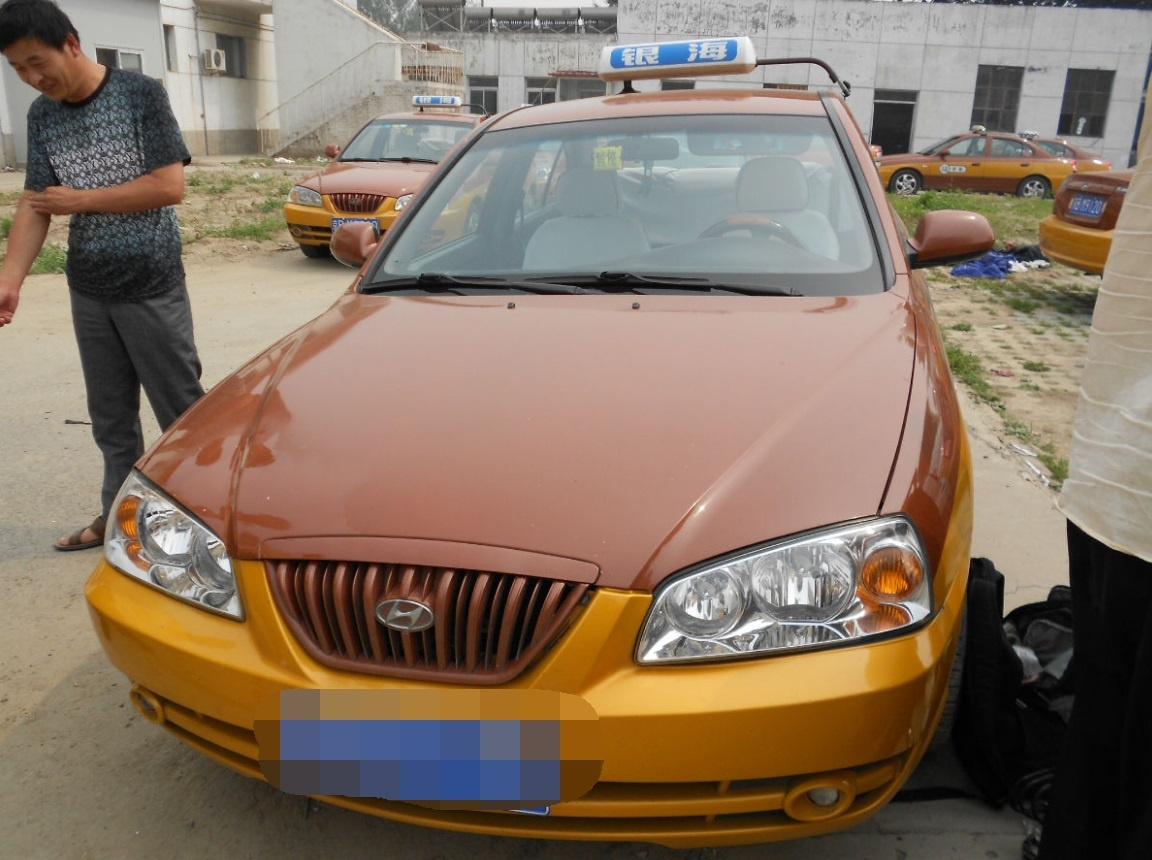taxi: (96, 62, 1016, 849)
